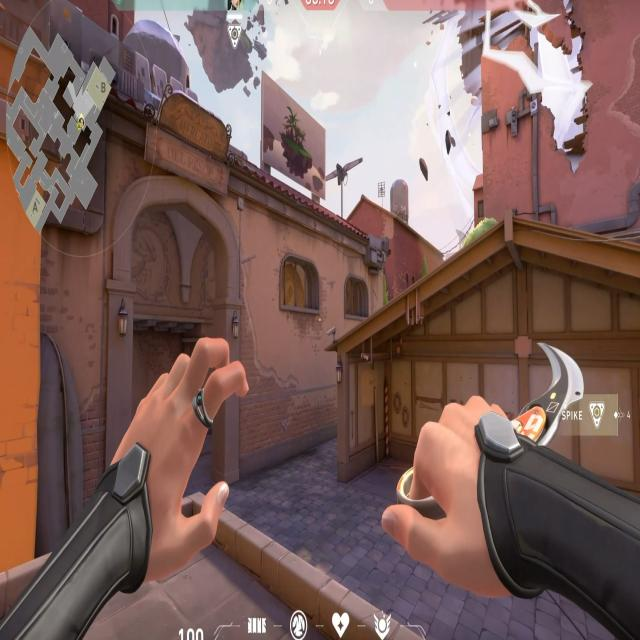B_Garage_Left: (333, 349, 443, 476)
Throwables: (279, 254, 322, 321), (340, 272, 371, 324)
